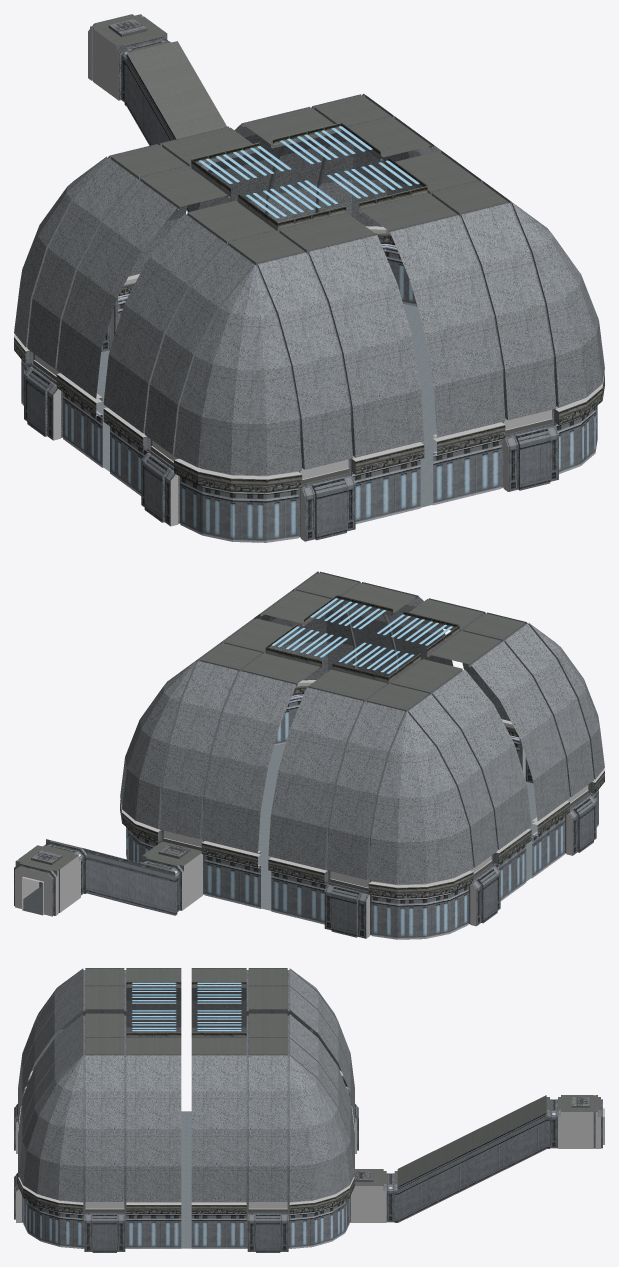
Rendered from poi_all_impl_bunker_research_facility_s01_r13_researchlab2_mesh.fbx.
3 views of the same model, one above another, from view 1: azimuth 30°, elevation 25°; view 2: azimuth 150°, elevation 25°; view 3: azimuth 270°, elevation 25° (orthographic). The views are drawn at different scales.
Visible parts, largest first — view 1: mesh_node; view 2: mesh_node; view 3: mesh_node.
Part boxes in pixels (x1=…): mesh_node: x1=14, y1=14, x2=604, y2=542; mesh_node: x1=14, y1=571, x2=604, y2=939; mesh_node: x1=14, y1=968, x2=604, y2=1252.
Size of the model in its own units: 33.8 by 18.7 by 57.9.
